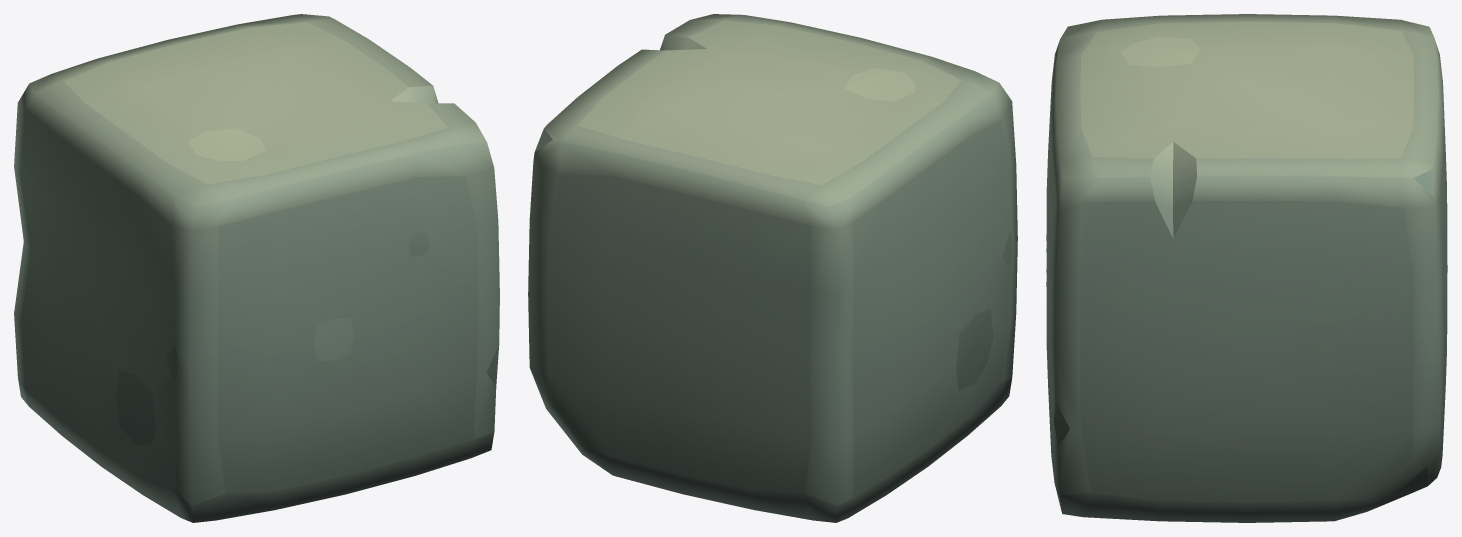
The model's file is block_stone1_3_LOD_group.fbx.
3 renders of one model, left to right at view 1: azimuth 30°, elevation 25°; view 2: azimuth 150°, elevation 25°; view 3: azimuth 270°, elevation 25°, orthographic. The views are drawn at different scales.
Visible parts, largest first — view 1: block_stone1_3_LOD0; view 2: block_stone1_3_LOD0; view 3: block_stone1_3_LOD0.
Part boxes in pixels (x1,y1,x2,y2): block_stone1_3_LOD0: [14, 14, 499, 522]; block_stone1_3_LOD0: [528, 14, 1017, 522]; block_stone1_3_LOD0: [1046, 14, 1447, 522].
Size of what is drawn, in the model's own units: 109 by 109 by 109.
Materials: 1 (1 with a texture image).
